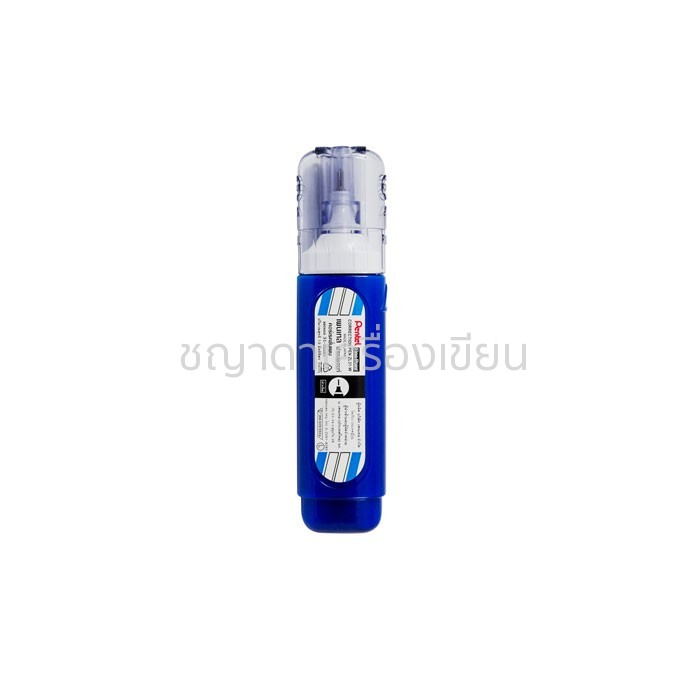Correction_fluid: (289, 138, 393, 538)
